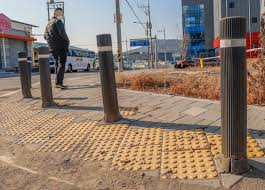guide_blocks: (84, 123, 265, 178), (4, 106, 78, 149)
